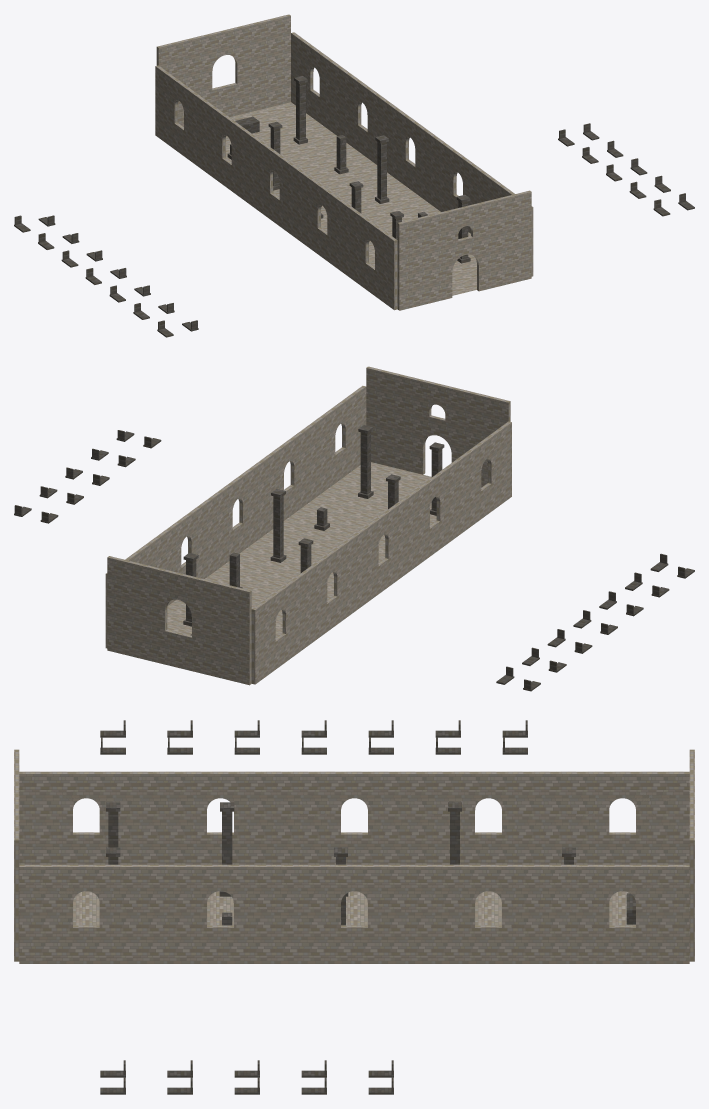
File: abadia.glb
3 views of the same model, one above another, from view 1: azimuth 30°, elevation 25°; view 2: azimuth 150°, elevation 25°; view 3: azimuth 270°, elevation 25° (orthographic). The views are drawn at different scales.
Parts seen in each view (by area): view 1: abadia-0; view 2: abadia-0; view 3: abadia-0.
Boxes of the visible parts, box(x1,y1,x2,y2) form: abadia-0: box(14, 14, 694, 337); abadia-0: box(14, 366, 694, 691); abadia-0: box(14, 720, 694, 1094).
Bounding box in the file's own units: 63.9 × 10 × 50.8.
1 material, 1 textured.
